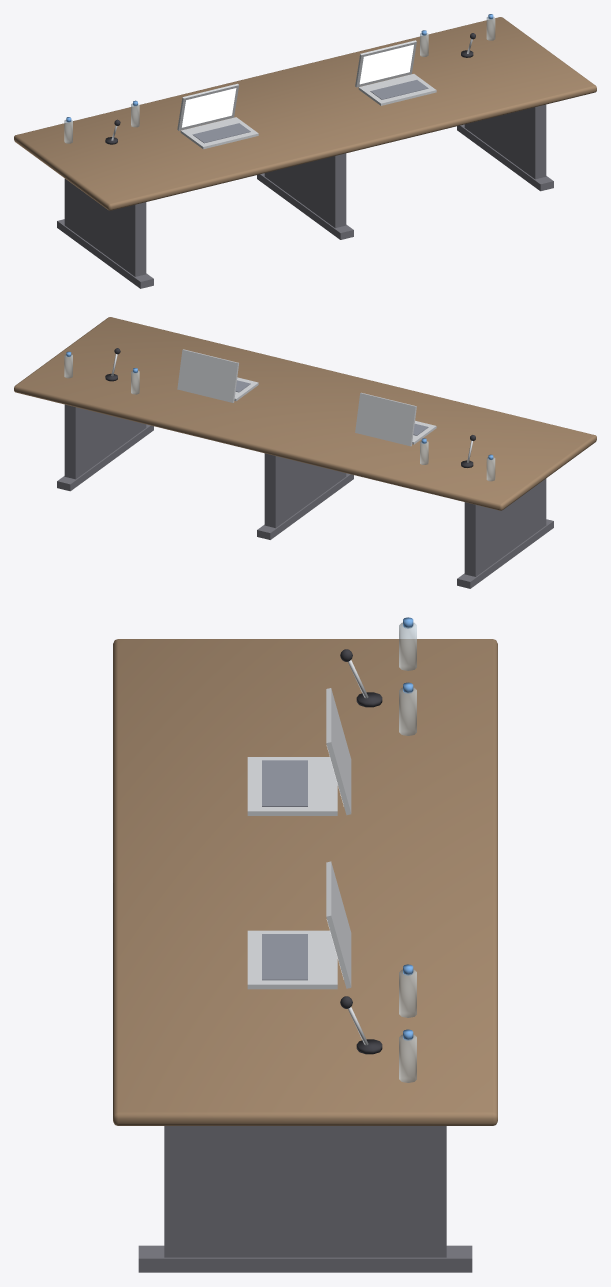
The model's file is conference-table.glb.
3 views of the same model, one above another, from view 1: azimuth 30°, elevation 25°; view 2: azimuth 150°, elevation 25°; view 3: azimuth 270°, elevation 25° (orthographic). The views are drawn at different scales.
Visible parts, largest first — view 1: ConferenceTable; view 2: ConferenceTable; view 3: ConferenceTable.
Part boxes in pixels (x1=…): ConferenceTable: x1=14, y1=14, x2=596, y2=288; ConferenceTable: x1=14, y1=317, x2=596, y2=588; ConferenceTable: x1=113, y1=617, x2=497, y2=1272.
Size of the model in its own units: 4.4 by 1.16 by 1.5.
